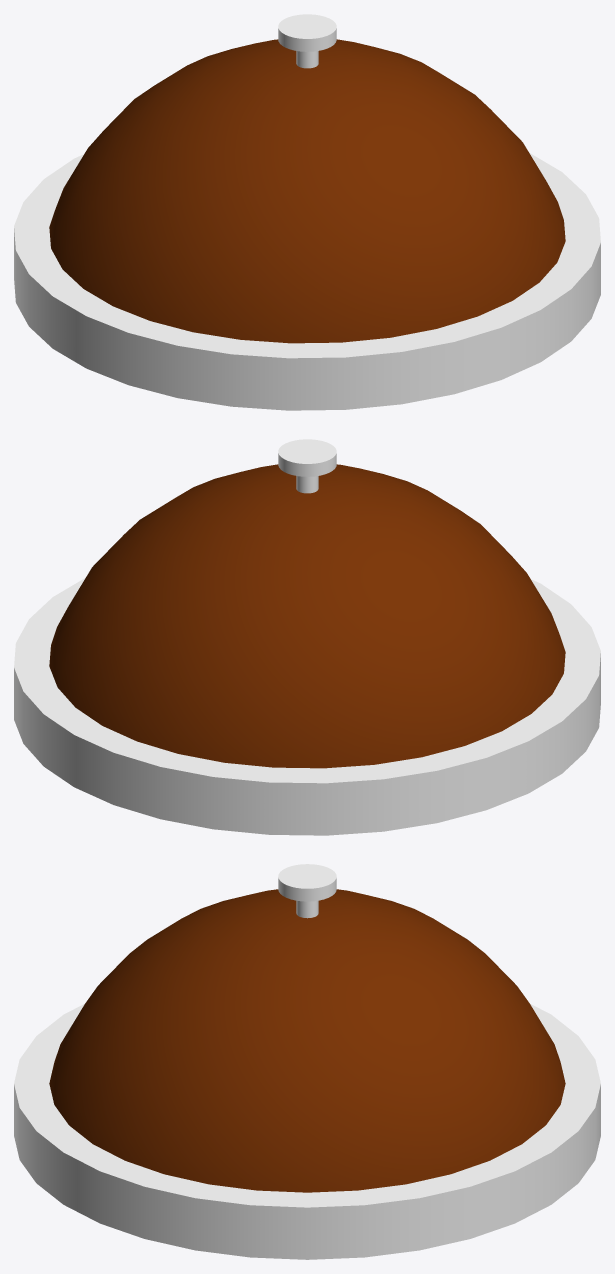
The model's file is sonnette.glb.
3 renders of one model, top to bottom at view 1: azimuth 30°, elevation 25°; view 2: azimuth 150°, elevation 25°; view 3: azimuth 270°, elevation 25°, orthographic.
Visible parts, largest first — view 1: sonnette_mid, sonnette_bot, sonnette_top; view 2: sonnette_mid, sonnette_bot, sonnette_top; view 3: sonnette_mid, sonnette_bot, sonnette_top.
Boxes of the visible parts, bbox=[...] form: sonnette_mid: bbox=[49, 39, 565, 343]; sonnette_bot: bbox=[14, 153, 600, 410]; sonnette_top: bbox=[278, 14, 336, 68]; sonnette_mid: bbox=[49, 464, 565, 768]; sonnette_bot: bbox=[14, 578, 600, 835]; sonnette_top: bbox=[278, 439, 336, 493]; sonnette_mid: bbox=[49, 889, 565, 1192]; sonnette_bot: bbox=[14, 1004, 600, 1259]; sonnette_top: bbox=[278, 864, 336, 918].
Bounding box in the file's own units: 0.1548 × 0.0755 × 0.1548.
